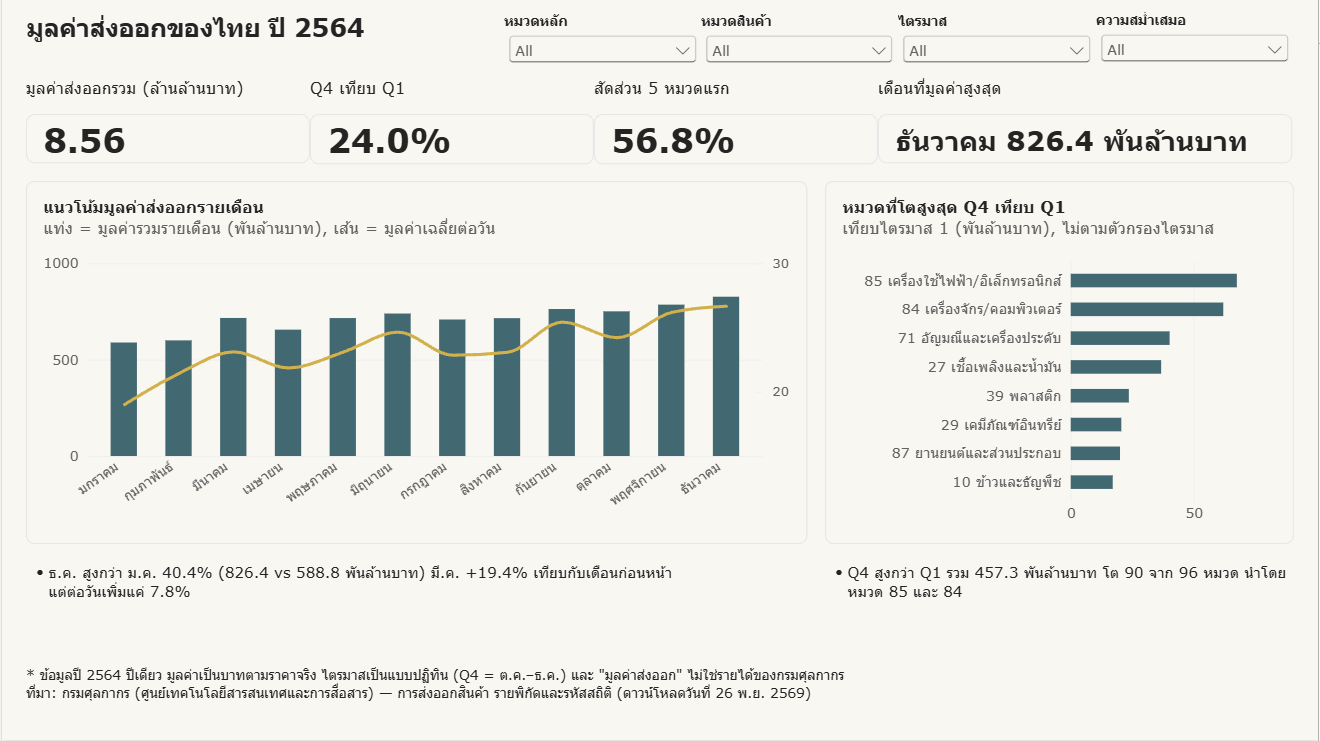

This screenshot's page, from the dashboard's own definition file:
{"tool":"powerbi","page":{"name":"1 ภาพรวม","canvas":[1280,720],"ordinal":0},"visuals":[{"type":"slicer","title":"หมวดสินค้า","fields":{"Values":["dim_hs_chapter.Chapter Label"]},"box":[680,12.5,191.2,47.5],"z":0},{"type":"slicer","title":"ไตรมาส","fields":{"Values":["dim_month.quarter_label"]},"box":[871.2,12.5,192,48],"z":1000},{"type":"slicer","title":"ความสม่ำเสมอ","fields":{"Values":["summary_chapter_stability.stability_class"]},"box":[1064,12,192,48],"z":2000},{"type":"textbox","box":[24,12,410,48],"z":3000},{"type":"slicer","title":"หมวดหลัก","fields":{"Values":["dim_hs_chapter.section_name_th"]},"box":[488.8,12.5,192,48],"z":4000},{"type":"cardVisual","title":"มูลค่าส่งออกรวม (ล้านล้านบาท)","fields":{"Data":["_Measure.Total Export (ล้านล้านบาท)"]},"box":[23.8,76.2,276.2,83.8],"z":5000},{"type":"cardVisual","title":"Q4 เทียบ Q1","fields":{"Data":["_Measure.Q4 vs Q1 %"]},"box":[300,76.2,276,84],"z":6000},{"type":"cardVisual","title":"สัดส่วน 5 หมวดแรก","fields":{"Data":["_Measure.Top5 Chapter Share %"]},"box":[576.2,76.2,276,84],"z":7000},{"type":"cardVisual","title":"เดือนที่มูลค่าสูงสุด","fields":{"Data":["_Measure.Peak Month Label"]},"box":[852.5,76.2,403.8,83.8],"z":8000},{"type":"lineClusteredColumnComboChart","title":"แนวโน้มมูลค่าส่งออกรายเดือน","fields":{"Category":["dim_month.month_name_th"],"Y":["_Measure.Total Export (พันล้านบาท)"],"Y2":["_Measure.Value per Day (พันล้านบาท)"]},"box":[23.8,176.2,760,352.5],"z":9000},{"type":"barChart","title":"หมวดที่โตสูงสุด Q4 เทียบ Q1","fields":{"Category":["dim_hs_chapter.Chapter Short"],"Y":["_Measure.Q4 minus Q1 (พันล้านบาท)"]},"box":[800,176.2,456.2,352.5],"z":10000},{"type":"textbox","box":[23.8,547.5,632.5,72.5],"z":11000},{"type":"textbox","box":[800,547.5,456.2,72.5],"z":12000},{"type":"textbox","box":[23.8,647.5,1232.5,50],"z":13000}]}

Visuals, with their boxes in screenshot pixels (x1, y1, x2, y2), scaled from the page's 1280x720 canvas onto the 1320x741 screenshot:
"หมวดสินค้า" slicer: bbox=[701, 13, 898, 62]
"ไตรมาส" slicer: bbox=[898, 13, 1096, 62]
"ความสม่ำเสมอ" slicer: bbox=[1097, 12, 1295, 62]
textbox: bbox=[25, 12, 448, 62]
"หมวดหลัก" slicer: bbox=[504, 13, 702, 62]
"มูลค่าส่งออกรวม (ล้านล้านบาท)" cardVisual: bbox=[25, 78, 309, 165]
"Q4 เทียบ Q1" cardVisual: bbox=[309, 78, 594, 165]
"สัดส่วน 5 หมวดแรก" cardVisual: bbox=[594, 78, 879, 165]
"เดือนที่มูลค่าสูงสุด" cardVisual: bbox=[879, 78, 1296, 165]
"แนวโน้มมูลค่าส่งออกรายเดือน" lineClusteredColumnComboChart: bbox=[25, 181, 808, 544]
"หมวดที่โตสูงสุด Q4 เทียบ Q1" barChart: bbox=[825, 181, 1295, 544]
textbox: bbox=[25, 563, 677, 638]
textbox: bbox=[825, 563, 1295, 638]
textbox: bbox=[25, 666, 1296, 718]
